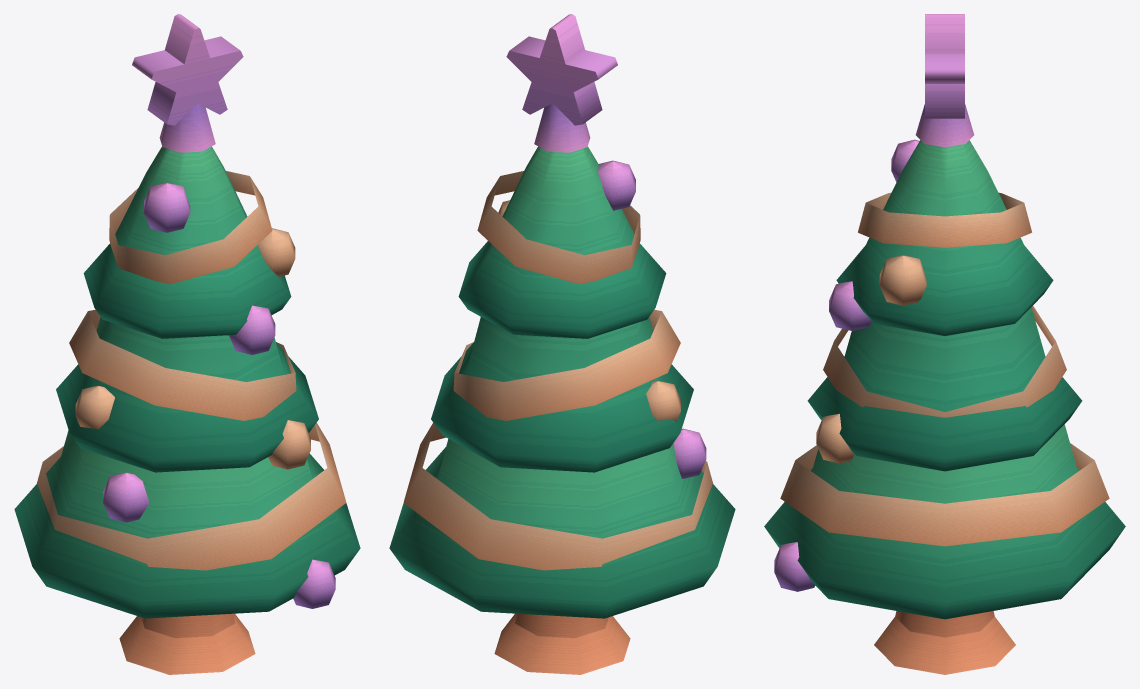
The picture shows the model from 3 angles, left to right: view 1: azimuth 30°, elevation 25°; view 2: azimuth 150°, elevation 25°; view 3: azimuth 270°, elevation 25°; orthographic projection.
Bounding box in the file's own units: 0.5197 × 1 × 0.5197.
Materials: 1 (1 with a texture image).
